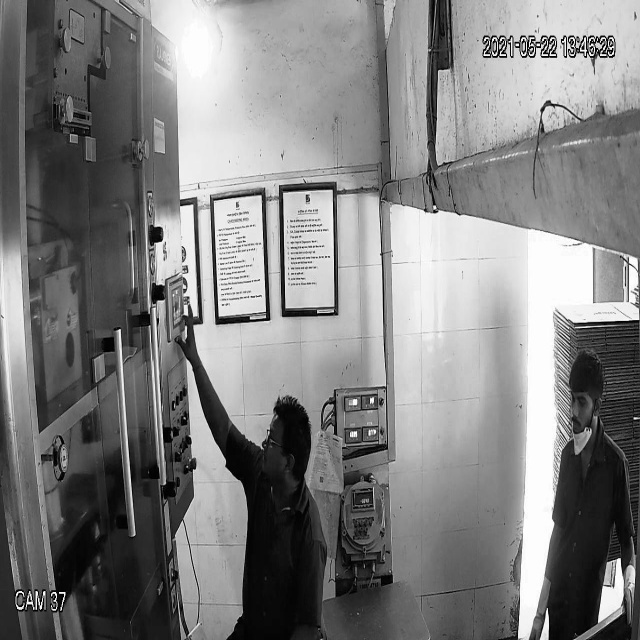Gafas: (263, 427, 303, 456)
Sin_gafas: (566, 388, 599, 414)
